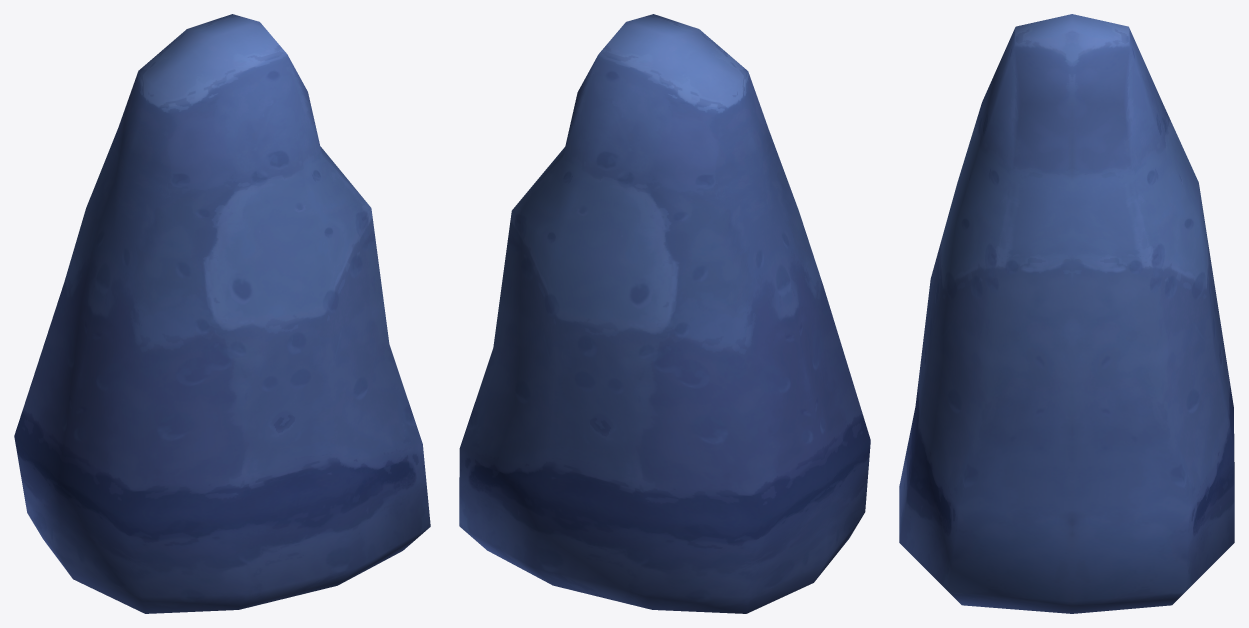
3 renders of one model, left to right at view 1: azimuth 30°, elevation 25°; view 2: azimuth 150°, elevation 25°; view 3: azimuth 270°, elevation 25°, orthographic. The views are drawn at different scales.
Parts seen in each view (by area): view 1: wk_s02_47; view 2: wk_s02_47; view 3: wk_s02_47.
Boxes of the visible parts, bbox=[...] form: wk_s02_47: bbox=[14, 14, 430, 613]; wk_s02_47: bbox=[459, 14, 870, 613]; wk_s02_47: bbox=[899, 14, 1234, 613].
Size of the model in its own units: 1.42 by 1.21 by 2.1.
1 material, 1 textured.
